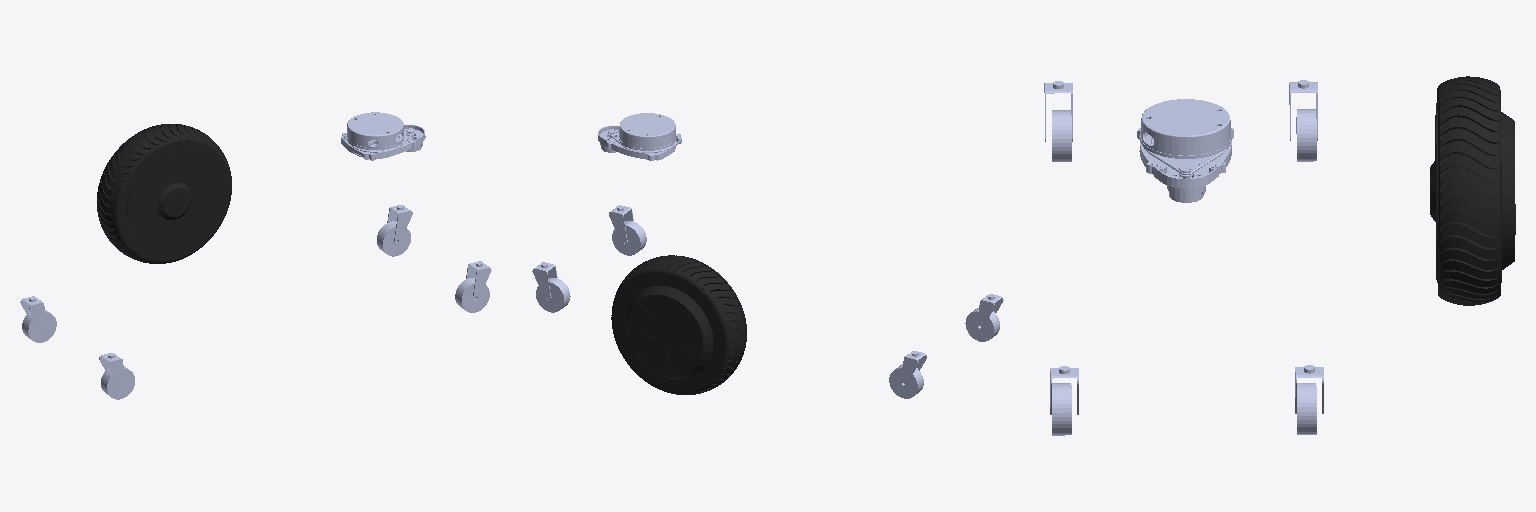
The robot description file, URDF, robot "robot_v5_1":
<?xml version="1.0" encoding="utf-8"?>
<!-- This URDF was automatically created by SolidWorks to URDF Exporter! Originally created by Stephen Brawner (brawner@gmail.com) 
     Commit Version: 1.6.0-4-g7f85cfe  Build Version: 1.6.7995.38578
     For more information, please see http://wiki.ros.org/sw_urdf_exporter -->
<robot
  name="robot_v5_1">
  <link
    name="base_link">
    <inertial>
      <origin
        xyz="0.0504690190398598 -0.00437721641561684 0.176492572671356"
        rpy="0 0 0" />
      <mass
        value="10.721969589351" />
      <inertia
        ixx="0.065666040235012"
        ixy="-0.000233422964272816"
        ixz="0.00132716631982659"
        iyy="0.0852589729888426"
        iyz="6.38818199130576E-06"
        izz="0.0789731879634966" />
    </inertial>
    <visual>
      <origin
        xyz="0 0 0"
        rpy="0 0 0" />
      <geometry>
        <mesh
          filename="package://robot_v5_1/meshes/base_link.STL" />
      </geometry>
      <material
        name="">
        <color
          rgba="0.752941176470588 0.752941176470588 0.752941176470588 1" />
      </material>
    </visual>
    <collision>
      <origin
        xyz="0 0 0"
        rpy="0 0 0" />
      <geometry>
        <mesh
          filename="package://robot_v5_1/meshes/base_link.STL" />
      </geometry>
    </collision>
  </link>
  <link
    name="lidar_link">
    <inertial>
      <origin
        xyz="0.0148383171366373 0.000447683430937984 -0.0211536208330175"
        rpy="0 0 0" />
      <mass
        value="0.0312409127406482" />
      <inertia
        ixx="8.88026370811018E-06"
        ixy="-1.77664494330327E-07"
        ixz="1.13027679917068E-07"
        iyy="1.44910018205435E-05"
        iyz="3.46076114995786E-08"
        izz="2.25289099520273E-05" />
    </inertial>
    <visual>
      <origin
        xyz="0 0 0"
        rpy="0 0 0" />
      <geometry>
        <mesh
          filename="package://robot_v5_1/meshes/lidar_link.STL" />
      </geometry>
      <material
        name="">
        <color
          rgba="0.792156862745098 0.819607843137255 0.933333333333333 1" />
      </material>
    </visual>
    <collision>
      <origin
        xyz="0 0 0"
        rpy="0 0 0" />
      <geometry>
        <mesh
          filename="package://robot_v5_1/meshes/lidar_link.STL" />
      </geometry>
    </collision>
  </link>
  <joint
    name="lidar"
    type="fixed">
    <origin
      xyz="0.155666725643582 0.00112777065633451 0.146099999998099"
      rpy="0 0 0" />
    <parent
      link="base_link" />
    <child
      link="lidar_link" />
    <axis
      xyz="0 0 0" />
  </joint>
  <link
    name="imu_link">
    <inertial>
      <origin
        xyz="-0.000128980117749644 -0.000191495597999497 -0.00384070509348666"
        rpy="0 0 0" />
      <mass
        value="0.000999898118986829" />
      <inertia
        ixx="2.50447716935415E-08"
        ixy="1.03965056246905E-10"
        ixz="-2.68560481478968E-14"
        iyy="1.2451353550853E-08"
        iyz="-1.18565423254586E-14"
        izz="3.06376353115898E-08" />
    </inertial>
    <visual>
      <origin
        xyz="0 0 0"
        rpy="0 0 0" />
      <geometry>
        <mesh
          filename="package://robot_v5_1/meshes/imu_link.STL" />
      </geometry>
      <material
        name="">
        <color
          rgba="0.792156862745098 0.819607843137255 0.933333333333333 1" />
      </material>
    </visual>
    <collision>
      <origin
        xyz="0 0 0"
        rpy="0 0 0" />
      <geometry>
        <mesh
          filename="package://robot_v5_1/meshes/imu_link.STL" />
      </geometry>
    </collision>
  </link>
  <joint
    name="imu"
    type="fixed">
    <origin
      xyz="0.126428933055049 -0.100523077234269 0.0330200000034927"
      rpy="0 0 0" />
    <parent
      link="base_link" />
    <child
      link="imu_link" />
    <axis
      xyz="0 0 0" />
  </joint>
  <link
    name="right_wheel_link">
    <inertial>
      <origin
        xyz="0.000243587829777958 -0.0295000990455643 8.01157473695469E-11"
        rpy="0 0 0" />
      <mass
        value="0.981706650902445" />
      <inertia
        ixx="0.0016529887582961"
        ixy="-1.01208993064446E-05"
        ixz="-1.81686206768645E-09"
        iyy="0.00287861061005825"
        iyz="-1.35675327498685E-11"
        izz="0.00165291235980834" />
    </inertial>
    <visual>
      <origin
        xyz="0 0 0"
        rpy="0 0 0" />
      <geometry>
        <mesh
          filename="package://robot_v5_1/meshes/right_wheel_link.STL" />
      </geometry>
      <material
        name="">
        <color
          rgba="0.2 0.2 0.2 1" />
      </material>
    </visual>
    <collision>
      <origin
        xyz="0 0 0"
        rpy="0 0 0" />
      <geometry>
        <mesh
          filename="package://robot_v5_1/meshes/right_wheel_link.STL" />
      </geometry>
    </collision>
  </link>
  <joint
    name="right_wheel"
    type="continuous">
    <origin
      xyz="0.00157556970077044 -0.175020257687692 0.0150000000042175"
      rpy="0 0 0" />
    <parent
      link="base_link" />
    <child
      link="right_wheel_link" />
    <axis
      xyz="-0.00825691107326283 0.999965911128739 0" />
  </joint>
  <link
    name="left_wheel_link">
    <inertial>
      <origin
        xyz="-0.000243587829778624 0.0295000990455639 8.01149702134296E-11"
        rpy="0 0 0" />
      <mass
        value="0.981706650902443" />
      <inertia
        ixx="0.00165299120834847"
        ixy="-1.01249109871006E-05"
        ixz="-1.44984115092652E-08"
        iyy="0.00287861950901393"
        iyz="7.25004216940232E-11"
        izz="0.00165291988234476" />
    </inertial>
    <visual>
      <origin
        xyz="0 0 0"
        rpy="0 0 0" />
      <geometry>
        <mesh
          filename="package://robot_v5_1/meshes/left_wheel_link.STL" />
      </geometry>
      <material
        name="">
        <color
          rgba="0.2 0.2 0.2 1" />
      </material>
    </visual>
    <collision>
      <origin
        xyz="0 0 0"
        rpy="0 0 0" />
      <geometry>
        <mesh
          filename="package://robot_v5_1/meshes/left_wheel_link.STL" />
      </geometry>
    </collision>
  </link>
  <joint
    name="left_wheel"
    type="continuous">
    <origin
      xyz="-0.00131434917487327 0.174967811207364 0.0150000000042175"
      rpy="0 0 0" />
    <parent
      link="base_link" />
    <child
      link="left_wheel_link" />
    <axis
      xyz="0.00825691107326281 -0.999965911128739 0" />
  </joint>
  <link
    name="camera_link">
    <inertial>
      <origin
        xyz="-0.0286974043856941 -0.00315323141543045 -0.0069642717036188"
        rpy="0 0 0" />
      <mass
        value="0.646454884722171" />
      <inertia
        ixx="0.00284238273162732"
        ixy="1.87273045722636E-05"
        ixz="1.48075090926777E-07"
        iyy="0.000263758634501103"
        iyz="-3.33736129073185E-08"
        izz="0.00296274058967308" />
    </inertial>
    <visual>
      <origin
        xyz="0 0 0"
        rpy="0 0 0" />
      <geometry>
        <mesh
          filename="package://robot_v5_1/meshes/camera_link.STL" />
      </geometry>
      <material
        name="">
        <color
          rgba="0.752941176470588 0.752941176470588 0.752941176470588 1" />
      </material>
    </visual>
    <collision>
      <origin
        xyz="0 0 0"
        rpy="0 0 0" />
      <geometry>
        <mesh
          filename="package://robot_v5_1/meshes/camera_link.STL" />
      </geometry>
    </collision>
  </link>
  <joint
    name="cam"
    type="fixed">
    <origin
      xyz="0.264952270554911 0.00535821231736117 0.284425164615102"
      rpy="0 0 0" />
    <parent
      link="base_link" />
    <child
      link="camera_link" />
    <axis
      xyz="0 0 0" />
  </joint>
  <link
    name="caster_frle_Link">
    <inertial>
      <origin
        xyz="1.65138221474015E-05 -0.00199993182225411 1.27675647831893E-15"
        rpy="0 0 0" />
      <mass
        value="0.0148770120110745" />
      <inertia
        ixx="1.53085377929143E-06"
        ixy="-8.6265278990257E-09"
        ixz="5.11700084476026E-23"
        iyy="2.57551147351535E-06"
        iyz="-3.56893242244897E-21"
        izz="1.53078254838952E-06" />
    </inertial>
    <visual>
      <origin
        xyz="0 0 0"
        rpy="0 0 0" />
      <geometry>
        <mesh
          filename="package://robot_v5_1/meshes/caster_frle_Link.STL" />
      </geometry>
      <material
        name="">
        <color
          rgba="0.792156862745098 0.819607843137255 0.933333333333333 1" />
      </material>
    </visual>
    <collision>
      <origin
        xyz="0 0 0"
        rpy="0 0 0" />
      <geometry>
        <mesh
          filename="package://robot_v5_1/meshes/caster_frle_Link.STL" />
      </geometry>
    </collision>
  </link>
  <joint
    name="frle_caster"
    type="revolute">
    <origin
      xyz="0.23038 -0.084999 -0.04795"
      rpy="0 0 0" />
    <parent
      link="base_link" />
    <child
      link="caster_frle_Link" />
    <axis
      xyz="0 1 0" />
    <limit
      lower="-3.14"
      upper="3.14"
      effort="1"
      velocity="10" />
  </joint>
  <link
    name="caster_frrig_Link">
    <inertial>
      <origin
        xyz="1.65138221472905E-05 -0.00199993182225411 1.33226762955019E-15"
        rpy="0 0 0" />
      <mass
        value="0.0148770120110745" />
      <inertia
        ixx="1.53085377929143E-06"
        ixy="-8.62652789902563E-09"
        ixz="4.21750951775343E-23"
        iyy="2.57551147351535E-06"
        iyz="-2.48695783425462E-21"
        izz="1.53078254838952E-06" />
    </inertial>
    <visual>
      <origin
        xyz="0 0 0"
        rpy="0 0 0" />
      <geometry>
        <mesh
          filename="package://robot_v5_1/meshes/caster_frrig_Link.STL" />
      </geometry>
      <material
        name="">
        <color
          rgba="0.792156862745098 0.819607843137255 0.933333333333333 1" />
      </material>
    </visual>
    <collision>
      <origin
        xyz="0 0 0"
        rpy="0 0 0" />
      <geometry>
        <mesh
          filename="package://robot_v5_1/meshes/caster_frrig_Link.STL" />
      </geometry>
    </collision>
  </link>
  <joint
    name="frrig_caster"
    type="revolute">
    <origin
      xyz="0.22895 0.088995 -0.04795"
      rpy="0 0 0" />
    <parent
      link="base_link" />
    <child
      link="caster_frrig_Link" />
    <axis
      xyz="0 1 0" />
    <limit
      lower="-3.14"
      upper="3.14"
      effort="1"
      velocity="10" />
  </joint>
  <link
    name="caster_bale_Link">
    <inertial>
      <origin
        xyz="-1.65138221470684E-05 0.001999931822254 1.38777878078145E-15"
        rpy="0 0 0" />
      <mass
        value="0.0148770120110745" />
      <inertia
        ixx="1.53085377929143E-06"
        ixy="-8.6265278990239E-09"
        ixz="-1.80068194429203E-22"
        iyy="2.57551147351535E-06"
        iyz="3.51712686118883E-21"
        izz="1.53078254838952E-06" />
    </inertial>
    <visual>
      <origin
        xyz="0 0 0"
        rpy="0 0 0" />
      <geometry>
        <mesh
          filename="package://robot_v5_1/meshes/caster_bale_Link.STL" />
      </geometry>
      <material
        name="">
        <color
          rgba="0.792156862745098 0.819607843137255 0.933333333333333 1" />
      </material>
    </visual>
    <collision>
      <origin
        xyz="0 0 0"
        rpy="0 0 0" />
      <geometry>
        <mesh
          filename="package://robot_v5_1/meshes/caster_bale_Link.STL" />
      </geometry>
    </collision>
  </link>
  <joint
    name="bale_caster"
    type="revolute">
    <origin
      xyz="-0.22869 -0.089048 -0.04795"
      rpy="0 0 0" />
    <parent
      link="base_link" />
    <child
      link="caster_bale_Link" />
    <axis
      xyz="0 1 0" />
    <limit
      lower="-3.14"
      upper="3.1"
      effort="1"
      velocity="10" />
  </joint>
  <link
    name="caster_barig_Link">
    <inertial>
      <origin
        xyz="-1.65138221468464E-05 0.00199993182225394 1.33226762955019E-15"
        rpy="0 0 0" />
      <mass
        value="0.0148770120110745" />
      <inertia
        ixx="1.53085377929143E-06"
        ixy="-8.62652789902401E-09"
        ixz="-2.62806450523679E-22"
        iyy="2.57551147351535E-06"
        iyz="3.50915782892433E-21"
        izz="1.53078254838952E-06" />
    </inertial>
    <visual>
      <origin
        xyz="0 0 0"
        rpy="0 0 0" />
      <geometry>
        <mesh
          filename="package://robot_v5_1/meshes/caster_barig_Link.STL" />
      </geometry>
      <material
        name="">
        <color
          rgba="0.792156862745098 0.819607843137255 0.933333333333333 1" />
      </material>
    </visual>
    <collision>
      <origin
        xyz="0 0 0"
        rpy="0 0 0" />
      <geometry>
        <mesh
          filename="package://robot_v5_1/meshes/caster_barig_Link.STL" />
      </geometry>
    </collision>
  </link>
  <joint
    name="barig_caster"
    type="revolute">
    <origin
      xyz="-0.23012 0.084946 -0.04795"
      rpy="0 0 0" />
    <parent
      link="base_link" />
    <child
      link="caster_barig_Link" />
    <axis
      xyz="0 1 0" />
    <limit
      lower="-3.14"
      upper="3.14"
      effort="1"
      velocity="10" />
  </joint>
  <link
    name="frle_Link">
    <inertial>
      <origin
        xyz="-0.00243927760199514 0 -0.0122411713493417"
        rpy="0 0 0" />
      <mass
        value="0.00146243132498549" />
      <inertia
        ixx="2.77088330082139E-07"
        ixy="-1.74948699554965E-22"
        ixz="-4.80219091733963E-08"
        iyy="2.1761622582384E-07"
        iyz="-3.68604773016436E-22"
        izz="1.42128082433692E-07" />
    </inertial>
    <visual>
      <origin
        xyz="0 0 0"
        rpy="0 0 0" />
      <geometry>
        <mesh
          filename="package://robot_v5_1/meshes/frle_Link.STL" />
      </geometry>
      <material
        name="">
        <color
          rgba="0.792156862745098 0.819607843137255 0.933333333333333 1" />
      </material>
    </visual>
    <collision>
      <origin
        xyz="0 0 0"
        rpy="0 0 0" />
      <geometry>
        <mesh
          filename="package://robot_v5_1/meshes/frle_Link.STL" />
      </geometry>
    </collision>
  </link>
  <joint
    name="frle_joint"
    type="revolute">
    <origin
      xyz="0.24034 -0.084916 -0.01245"
      rpy="0 0 0.008257" />
    <parent
      link="base_link" />
    <child
      link="frle_Link" />
    <axis
      xyz="0 0 1" />
    <limit
      lower="-3.14"
      upper="3.14"
      effort="0.5"
      velocity="2" />
  </joint>
  <link
    name="frrig_Link">
    <inertial>
      <origin
        xyz="-0.00243919444977503 -2.01408982427043E-05 -0.0122411713493417"
        rpy="0 0 0" />
      <mass
        value="0.0014624313249855" />
      <inertia
        ixx="2.77084275477437E-07"
        ixy="4.91039136659472E-10"
        ixz="-4.80202721607166E-08"
        iyy="2.17620280428541E-07"
        iyz="-3.96512633613156E-10"
        izz="1.42128082433692E-07" />
    </inertial>
    <visual>
      <origin
        xyz="0 0 0"
        rpy="0 0 0" />
      <geometry>
        <mesh
          filename="package://robot_v5_1/meshes/frrig_Link.STL" />
      </geometry>
      <material
        name="">
        <color
          rgba="0.792156862745098 0.819607843137255 0.933333333333333 1" />
      </material>
    </visual>
    <collision>
      <origin
        xyz="0 0 0"
        rpy="0 0 0" />
      <geometry>
        <mesh
          filename="package://robot_v5_1/meshes/frrig_Link.STL" />
      </geometry>
    </collision>
  </link>
  <joint
    name="frrig_joint"
    type="revolute">
    <origin
      xyz="0.2389 0.089078 -0.01245"
      rpy="0 0 0" />
    <parent
      link="base_link" />
    <child
      link="frrig_Link" />
    <axis
      xyz="0 0 1" />
    <limit
      lower="3.14"
      upper="-3.14"
      effort="0.5"
      velocity="2" />
  </joint>
  <link
    name="bale_Link">
    <inertial>
      <origin
        xyz="0.00243919444977503 2.01408982428153E-05 -0.0122411713493416"
        rpy="0 0 0" />
      <mass
        value="0.00146243132498551" />
      <inertia
        ixx="2.77084275477441E-07"
        ixy="4.91039136658997E-10"
        ixz="4.80202721607168E-08"
        iyy="2.17620280428547E-07"
        iyz="3.96512633614118E-10"
        izz="1.42128082433692E-07" />
    </inertial>
    <visual>
      <origin
        xyz="0 0 0"
        rpy="0 0 0" />
      <geometry>
        <mesh
          filename="package://robot_v5_1/meshes/bale_Link.STL" />
      </geometry>
      <material
        name="">
        <color
          rgba="0.792156862745098 0.819607843137255 0.933333333333333 1" />
      </material>
    </visual>
    <collision>
      <origin
        xyz="0 0 0"
        rpy="0 0 0" />
      <geometry>
        <mesh
          filename="package://robot_v5_1/meshes/bale_Link.STL" />
      </geometry>
    </collision>
  </link>
  <joint
    name="bale_joint"
    type="revolute">
    <origin
      xyz="-0.23864 -0.08913 -0.01245"
      rpy="0 0 0" />
    <parent
      link="base_link" />
    <child
      link="bale_Link" />
    <axis
      xyz="0 0 1" />
    <limit
      lower="3.14"
      upper="-3.14"
      effort="0.5"
      velocity="2" />
  </joint>
  <link
    name="barig_Link">
    <inertial>
      <origin
        xyz="0.00243919444977503 2.01408982427043E-05 -0.0122411713493417"
        rpy="0 0 0" />
      <mass
        value="0.00146243132498551" />
      <inertia
        ixx="2.77084275477442E-07"
        ixy="4.91039136659185E-10"
        ixz="4.80202721607169E-08"
        iyy="2.17620280428547E-07"
        iyz="3.9651263361393E-10"
        izz="1.42128082433693E-07" />
    </inertial>
    <visual>
      <origin
        xyz="0 0 0"
        rpy="0 0 0" />
      <geometry>
        <mesh
          filename="package://robot_v5_1/meshes/barig_Link.STL" />
      </geometry>
      <material
        name="">
        <color
          rgba="0.792156862745098 0.819607843137255 0.933333333333333 1" />
      </material>
    </visual>
    <collision>
      <origin
        xyz="0 0 0"
        rpy="0 0 0" />
      <geometry>
        <mesh
          filename="package://robot_v5_1/meshes/barig_Link.STL" />
      </geometry>
    </collision>
  </link>
  <joint
    name="barig_joint"
    type="revolute">
    <origin
      xyz="-0.24008 0.084864 -0.01245"
      rpy="0 0 0" />
    <parent
      link="base_link" />
    <child
      link="barig_Link" />
    <axis
      xyz="0 0 1" />
    <limit
      lower="3.14"
      upper="-3.14"
      effort="0.5"
      velocity="2" />
  </joint>
</robot>

--- Render facts (derived) ---
The picture shows the robot from 3 angles, left to right: view 1: azimuth 30°, elevation 25°; view 2: azimuth 150°, elevation 25°; view 3: azimuth 270°, elevation 25°; orthographic projection.
Model robot_v5_1 with 14 links and 13 joints (8 revolute, 2 continuous, 3 fixed), rooted at base_link, posed all joints at 0.
Links seen in each view (by area): view 1: left_wheel_link, lidar_link, caster_frle_Link, caster_frrig_Link, caster_barig_Link, caster_bale_Link, frrig_Link, frle_Link; view 2: left_wheel_link, lidar_link, caster_frle_Link, caster_frrig_Link, caster_bale_Link, caster_barig_Link, frle_Link, frrig_Link; view 3: left_wheel_link, lidar_link, caster_barig_Link, caster_frle_Link, caster_frrig_Link, caster_bale_Link.
Boxes of the visible links, bbox=[...] form: left_wheel_link: bbox=[97, 124, 231, 263]; lidar_link: bbox=[341, 112, 425, 160]; caster_frle_Link: bbox=[455, 278, 489, 312]; caster_frrig_Link: bbox=[377, 221, 410, 256]; caster_barig_Link: bbox=[22, 310, 56, 342]; caster_bale_Link: bbox=[101, 366, 134, 399]; frrig_Link: bbox=[387, 205, 412, 244]; frle_Link: bbox=[466, 261, 491, 300]; left_wheel_link: bbox=[611, 255, 746, 394]; lidar_link: bbox=[598, 113, 681, 160]; caster_frle_Link: bbox=[612, 221, 646, 255]; caster_frrig_Link: bbox=[536, 278, 570, 312]; caster_bale_Link: bbox=[965, 308, 999, 341]; caster_barig_Link: bbox=[889, 364, 923, 398]; frle_Link: bbox=[609, 205, 633, 244]; frrig_Link: bbox=[532, 262, 557, 301]; left_wheel_link: bbox=[1430, 76, 1515, 305]; lidar_link: bbox=[1137, 99, 1233, 202]; caster_barig_Link: bbox=[1296, 109, 1316, 161]; caster_frle_Link: bbox=[1052, 383, 1071, 435]; caster_frrig_Link: bbox=[1297, 383, 1316, 434]; caster_bale_Link: bbox=[1052, 110, 1071, 161].
Size in the robot's own frame: 0.5006 by 0.3346 by 0.2126 metres.
10 mesh visuals loaded from 14 distinct referenced files (10 binary STL); not drawn: 4 (reference not matched to a file when rendering).
